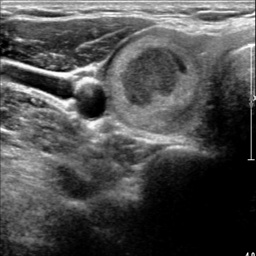mass: (110, 37, 200, 129)
